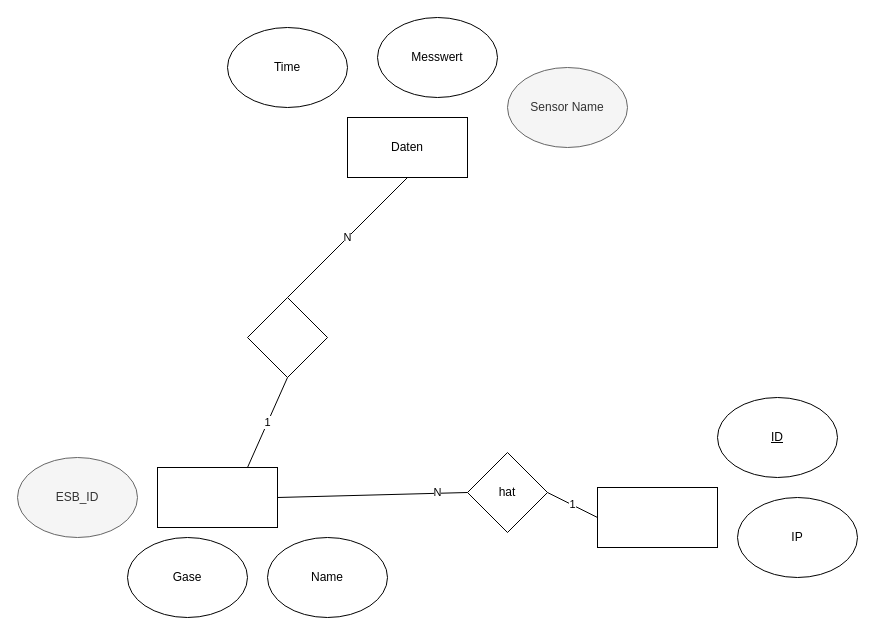
Some shapes in this 875 by 635 pixel diagram are drawn without their labels. The centre of each missing label's shape, as x and y in pixels:
"ESB" belongs at (657,517).
"Misst" belongs at (287,337).
"Sensor" belongs at (217,497).
